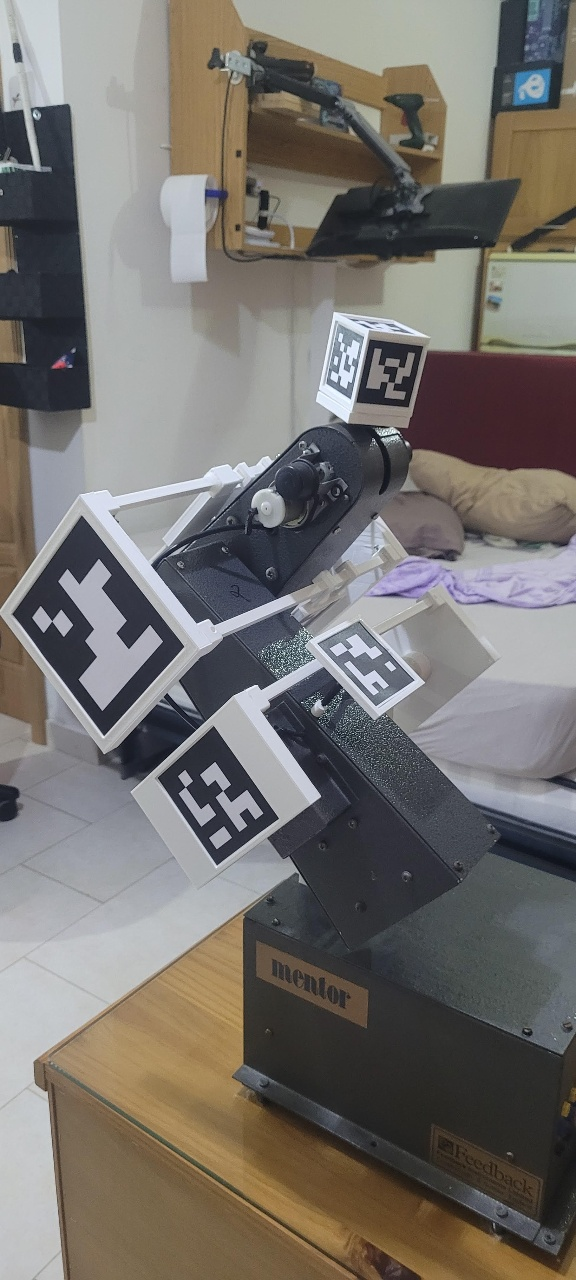Robot: (64, 366, 489, 926)
